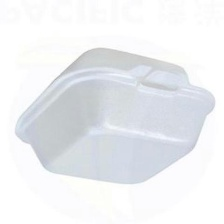foam_box: (10, 43, 218, 189)
